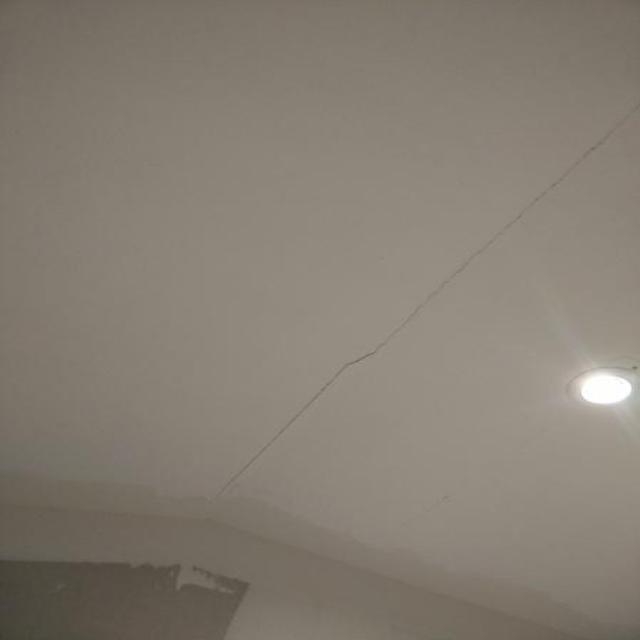crack: (210, 95, 638, 500)
